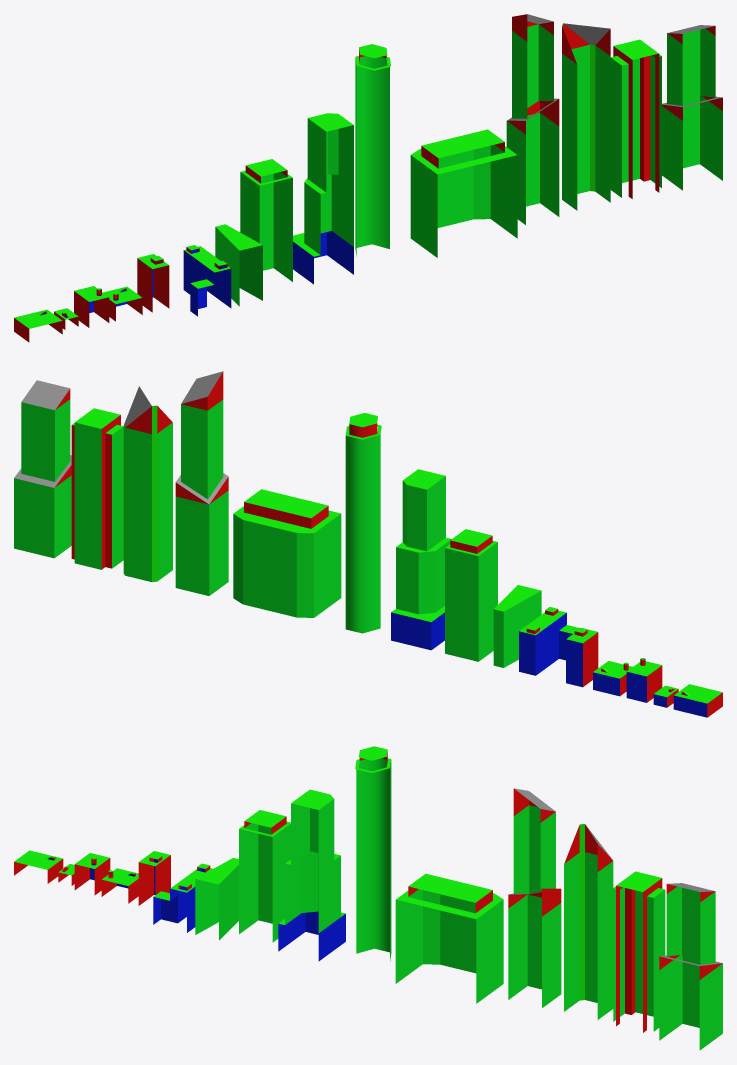
Rendered from buildings.FBX.
The picture shows the model from 3 angles, top to bottom: view 1: azimuth 30°, elevation 25°; view 2: azimuth 150°, elevation 25°; view 3: azimuth 330°, elevation 25°; orthographic projection.
Parts seen in each view (by area): view 1: Buildings_Big_06, Buildings_Big_04, Buildings_Big_03, Buildings_Big_01, Buildings_Big_08, Buildings_Big_02, Buildings_Big_07, Buildings_Big_09, Buildings_Medium_0, Buildings_Medium_02, Buildings_Medium_03, Buildings_Small_02 (+2 smaller); view 2: Buildings_Big_06, Buildings_Big_04, Buildings_Big_01, Buildings_Big_03, Buildings_Big_08, Buildings_Big_02, Buildings_Big_07, Buildings_Big_09, Buildings_Medium_02, Buildings_Medium_0, Buildings_Medium_03, Buildings_Small_02 (+2 smaller); view 3: Buildings_Big_06, Buildings_Big_04, Buildings_Big_01, Buildings_Big_03, Buildings_Big_08, Buildings_Big_07, Buildings_Big_02, Buildings_Big_09, Buildings_Medium_0, Buildings_Medium_02, Buildings_Medium_03, Buildings_Small_02 (+2 smaller).
Boxes of the visible parts, x1=… form: Buildings_Big_06: x1=410, y1=129, x2=517, y2=257; Buildings_Big_04: x1=506, y1=14, x2=559, y2=224; Buildings_Big_03: x1=562, y1=23, x2=610, y2=210; Buildings_Big_01: x1=662, y1=25, x2=722, y2=190; Buildings_Big_08: x1=293, y1=113, x2=353, y2=284; Buildings_Big_02: x1=610, y1=39, x2=661, y2=198; Buildings_Big_07: x1=355, y1=44, x2=390, y2=256; Buildings_Big_09: x1=240, y1=159, x2=292, y2=281; Buildings_Medium_0: x1=215, y1=224, x2=262, y2=306; Buildings_Medium_02: x1=183, y1=245, x2=231, y2=316; Buildings_Medium_03: x1=137, y1=254, x2=169, y2=312; Buildings_Small_02: x1=74, y1=286, x2=109, y2=327; Buildings_Big_06: x1=233, y1=489, x2=341, y2=617; Buildings_Big_04: x1=175, y1=371, x2=228, y2=595; Buildings_Big_01: x1=14, y1=380, x2=71, y2=558; Buildings_Big_03: x1=123, y1=386, x2=172, y2=582; Buildings_Big_08: x1=391, y1=469, x2=451, y2=650; Buildings_Big_02: x1=71, y1=408, x2=123, y2=569; Buildings_Big_07: x1=345, y1=413, x2=381, y2=633; Buildings_Big_09: x1=445, y1=529, x2=497, y2=661; Buildings_Medium_02: x1=519, y1=607, x2=578, y2=675; Buildings_Medium_0: x1=493, y1=585, x2=541, y2=667; Buildings_Medium_03: x1=566, y1=627, x2=598, y2=687; Buildings_Small_02: x1=626, y1=658, x2=662, y2=702; Buildings_Big_06: x1=395, y1=873, x2=503, y2=1003; Buildings_Big_04: x1=508, y1=788, x2=561, y2=1007; Buildings_Big_01: x1=659, y1=883, x2=722, y2=1050; Buildings_Big_03: x1=564, y1=824, x2=613, y2=1019; Buildings_Big_08: x1=278, y1=789, x2=345, y2=961; Buildings_Big_07: x1=355, y1=746, x2=391, y2=961; Buildings_Big_02: x1=613, y1=871, x2=665, y2=1032; Buildings_Big_09: x1=239, y1=810, x2=290, y2=942; Buildings_Medium_0: x1=195, y1=858, x2=238, y2=940; Buildings_Medium_02: x1=153, y1=863, x2=212, y2=932; Buildings_Medium_03: x1=138, y1=851, x2=170, y2=905; Buildings_Small_02: x1=74, y1=853, x2=110, y2=895.
Size of the model in its own units: 32441 by 9449 by 2520.
